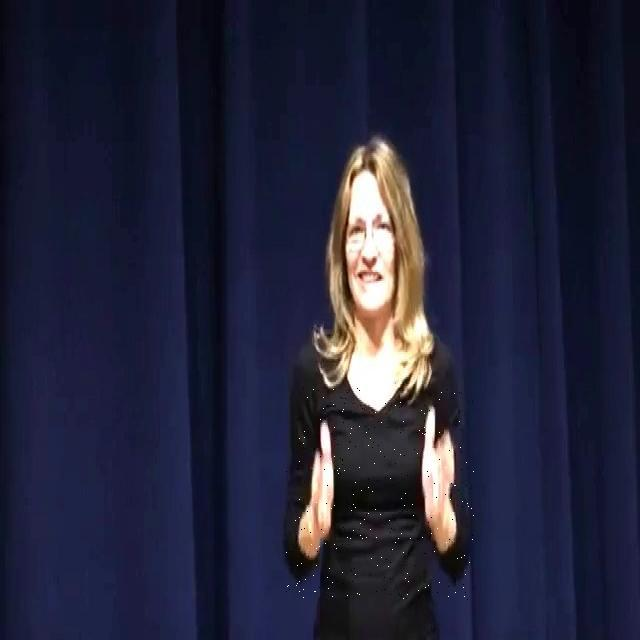manager: (286, 386, 474, 600)
